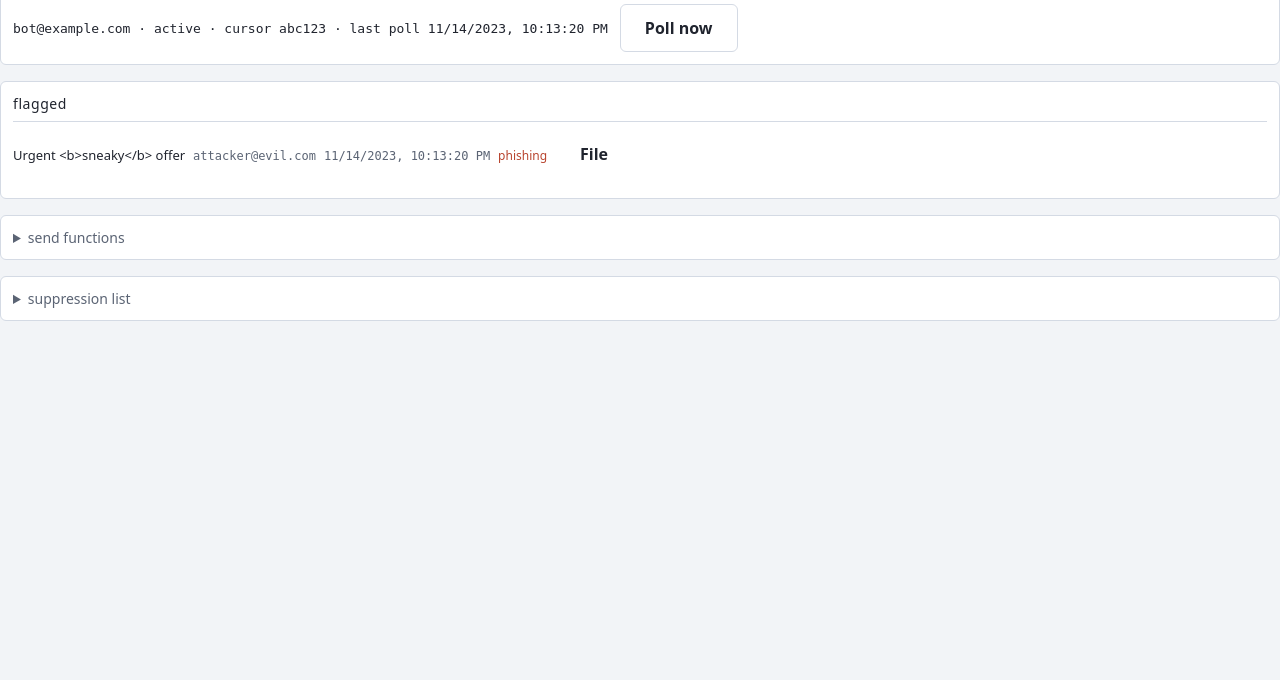
Test case: a 400 detail from the save endpoint renders inline
The width and height of the screenshot is (1280, 680).
Click the heading "send functions" at (76, 238), box [28,228,125,247]
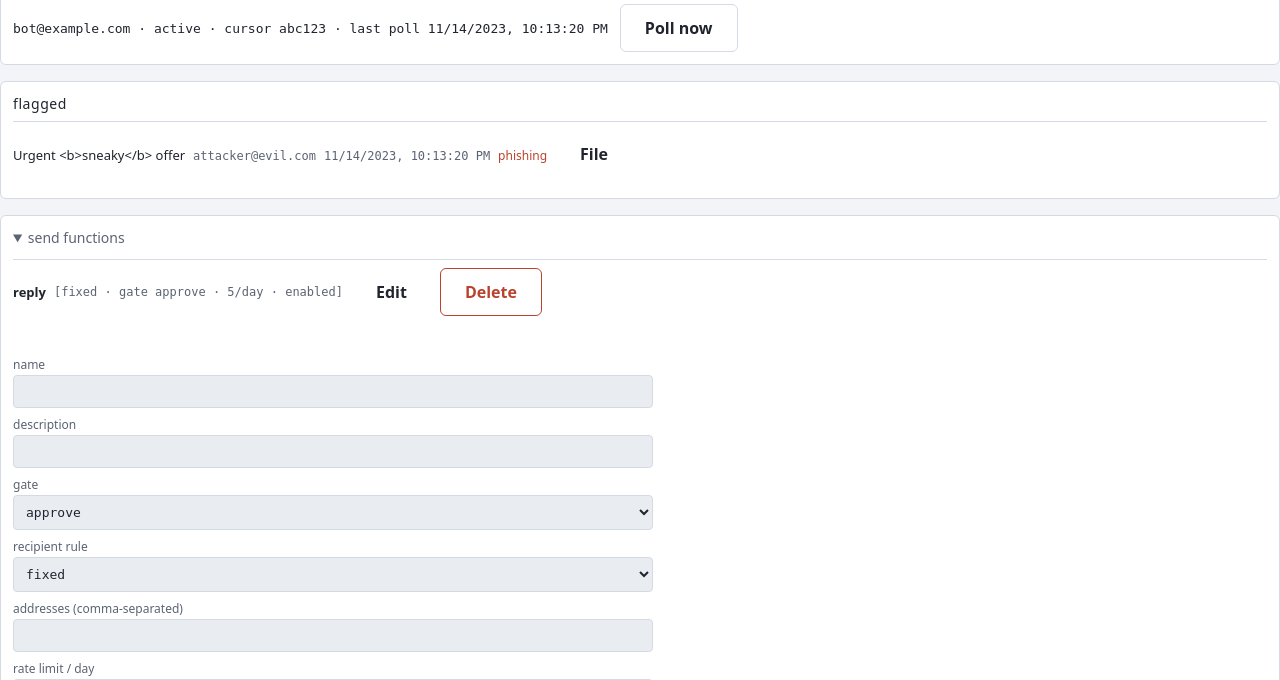
Click the button "Edit" at (391, 292), box [351,268,432,316]
(page scrolled)
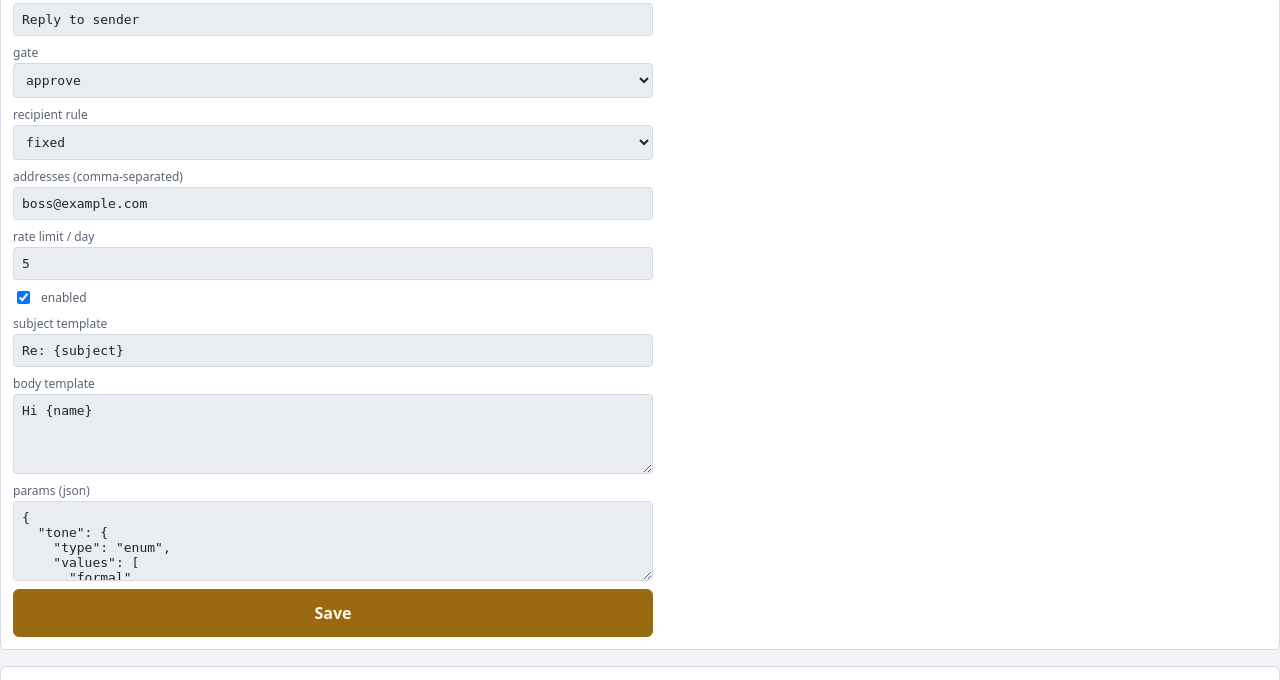
Click the button "Save" at (333, 613), box [13,589,653,637]
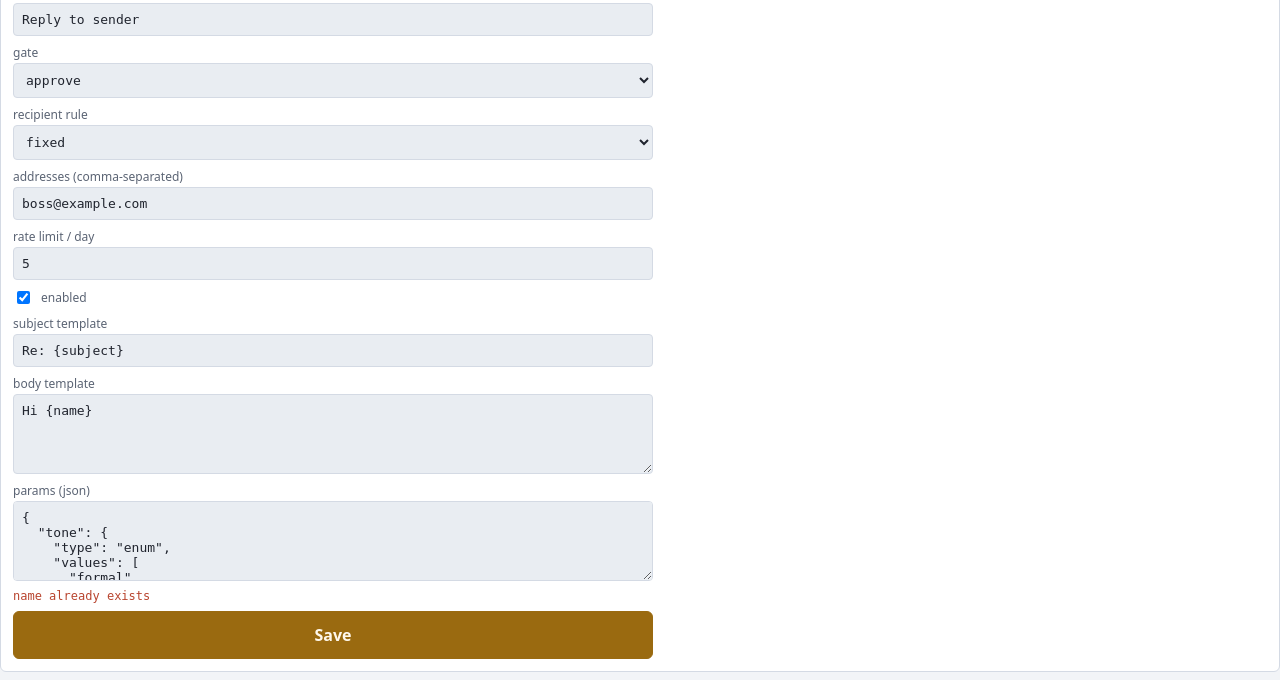
Expected: the text "name already exists" is shown, [13,589,150,603]
